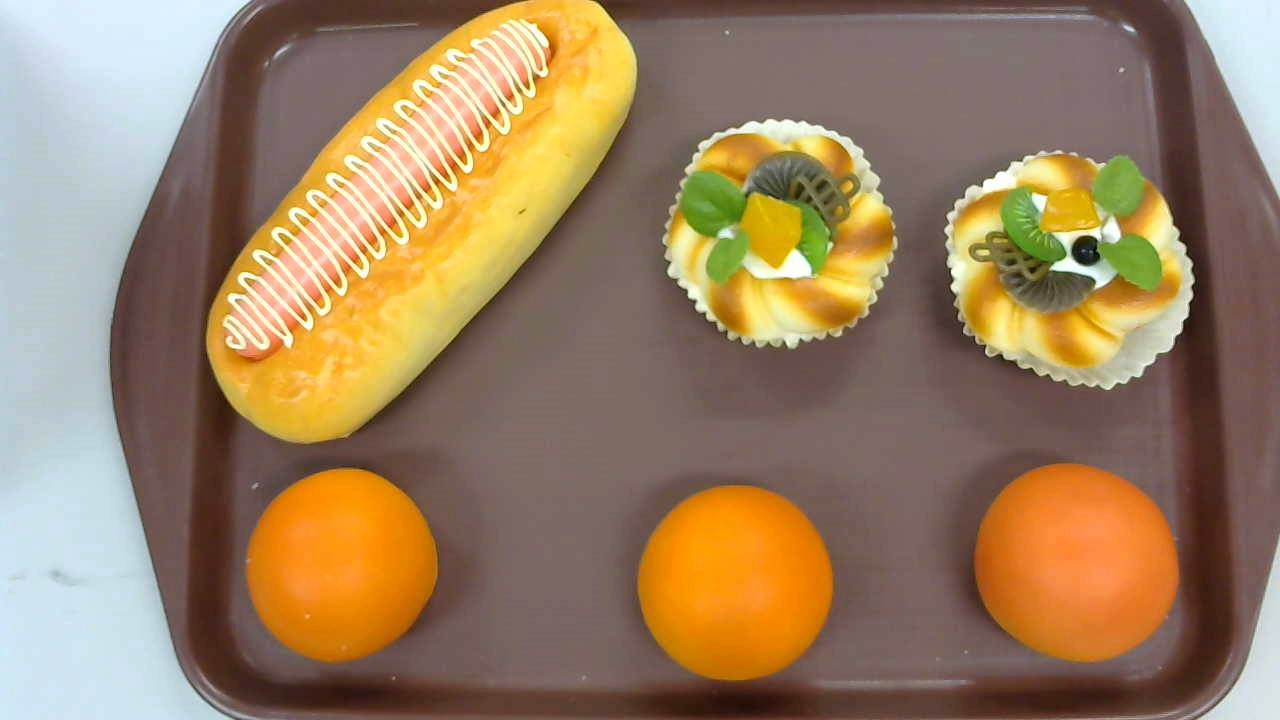bun: (974, 463, 1181, 662), (635, 486, 833, 681), (245, 467, 438, 662)
fruit tart: (942, 150, 1195, 391), (663, 119, 897, 350)
hot dog: (206, 1, 638, 443)
